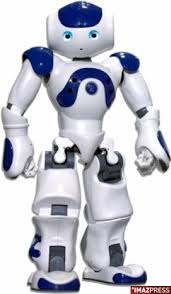nao: (1, 1, 170, 294)
